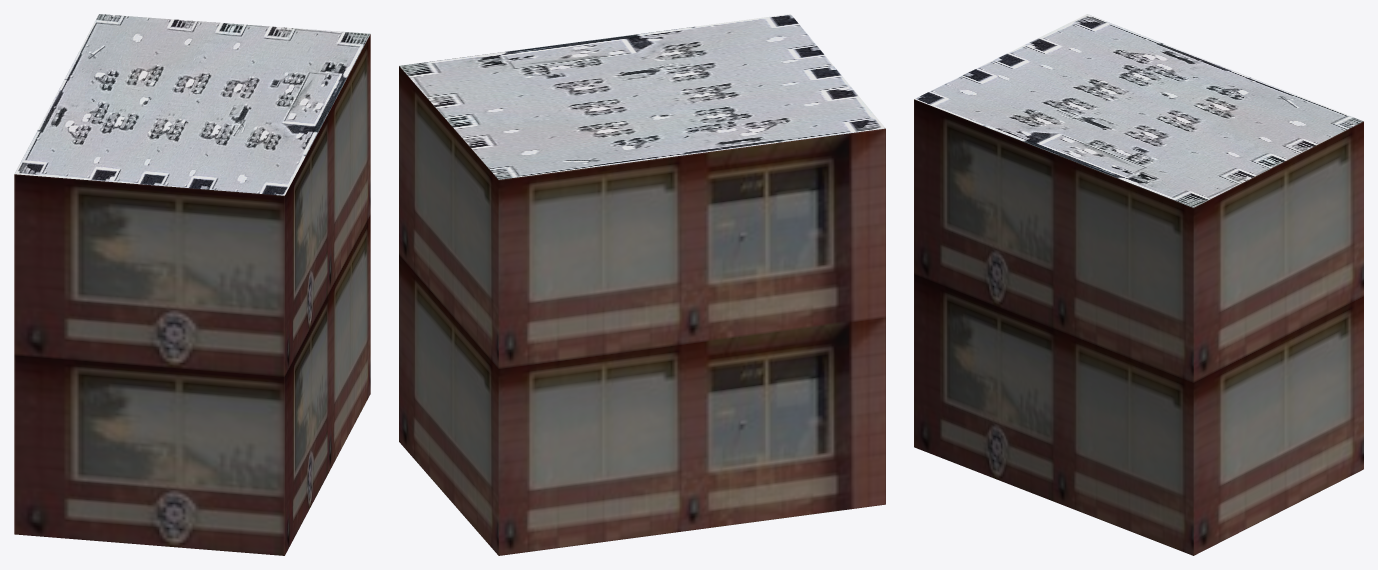
The model's file is ResTex__3784.fbx.
3 views of the same model, side by side, from view 1: azimuth 30°, elevation 25°; view 2: azimuth 150°, elevation 25°; view 3: azimuth 270°, elevation 25° (orthographic). The views are drawn at different scales.
Visible parts, largest first — view 1: CityEngineMaterial_13_m, CityEngineMaterial_m; view 2: CityEngineMaterial_13_m, CityEngineMaterial_m; view 3: CityEngineMaterial_13_m, CityEngineMaterial_m.
Boxes of the visible parts, x1,y1,x2,y2 form: CityEngineMaterial_13_m: [14, 34, 370, 555]; CityEngineMaterial_m: [14, 14, 370, 195]; CityEngineMaterial_13_m: [399, 66, 885, 555]; CityEngineMaterial_m: [399, 14, 885, 179]; CityEngineMaterial_13_m: [914, 99, 1363, 555]; CityEngineMaterial_m: [914, 14, 1363, 207].
Size of the model in its own units: 7.17 by 6 by 7.03.
2 materials, 2 textured.
